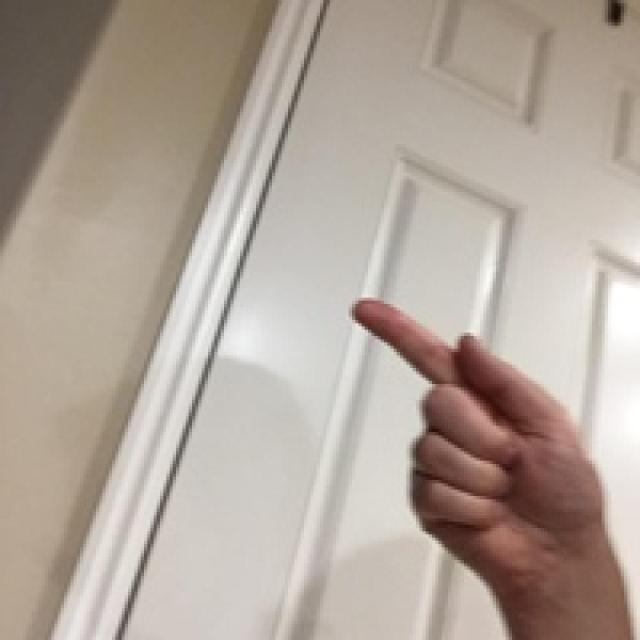G: (253, 253, 640, 569)
